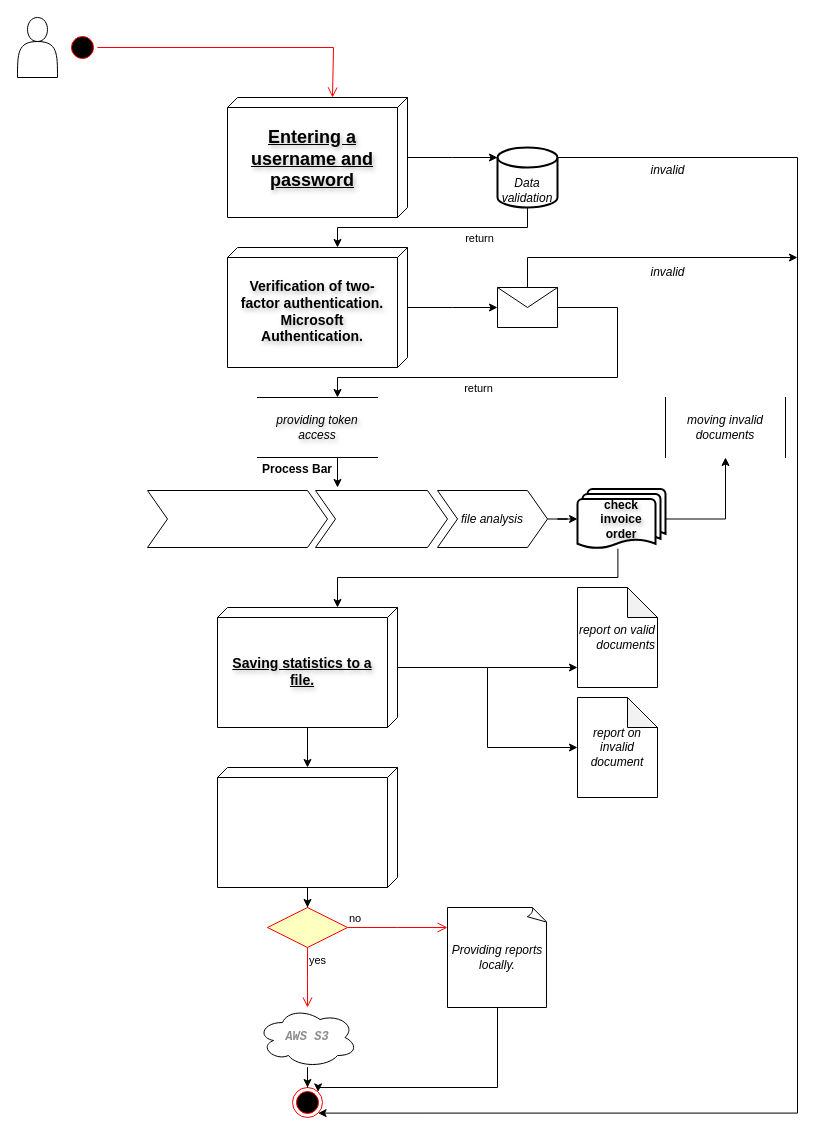
Some shapes in this 823 by 1139 pixel diagram are drawn without their labels. Here are the shapes that lost their labels. From the top down, the box of each, then its label:
(496, 286, 558, 328): code message
(146, 490, 328, 548): specify the file directory
(314, 490, 448, 548): file parsing
(216, 766, 398, 888): Uploading document statistics.
(266, 906, 348, 948): Condition
